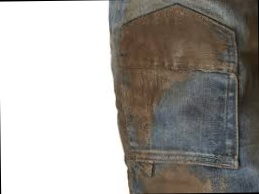earth: (126, 20, 220, 73), (132, 72, 154, 129), (146, 173, 200, 193), (155, 72, 171, 92)
